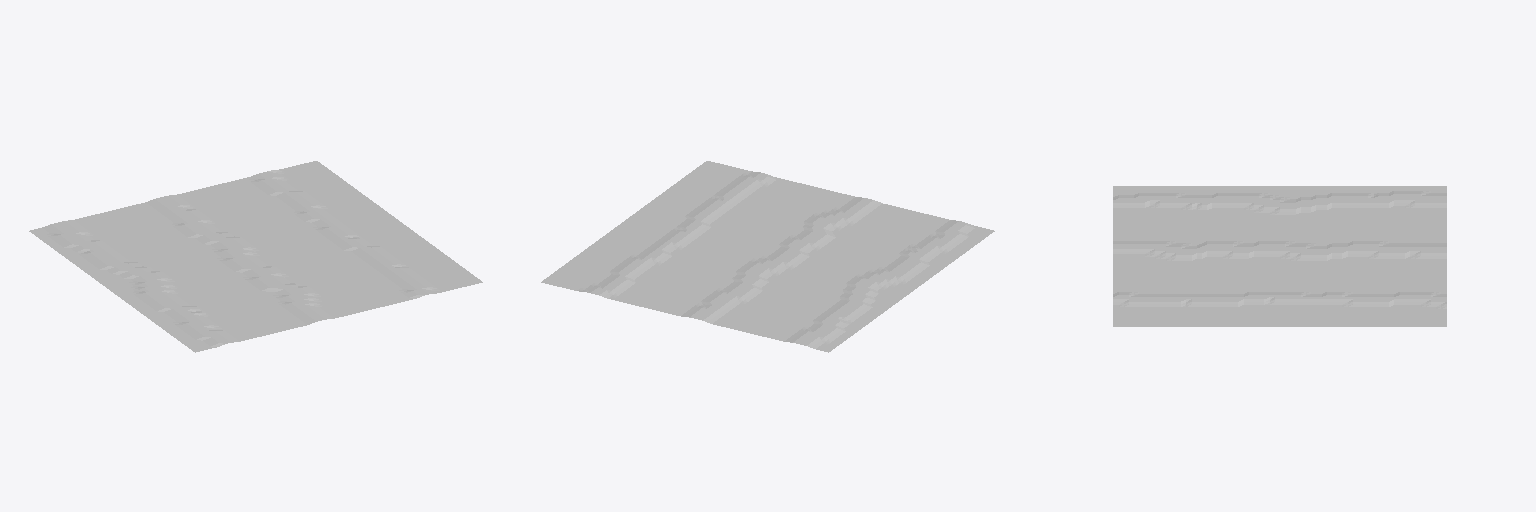
Rendered from lake13.obj.
3 views of the same model, side by side, from view 1: azimuth 30°, elevation 25°; view 2: azimuth 150°, elevation 25°; view 3: azimuth 270°, elevation 25° (orthographic).
Visible parts, largest first — view 1: lake.001; view 2: lake.001; view 3: lake.001.
Boxes of the visible parts, x1=… form: lake.001: x1=29, y1=161, x2=482, y2=352; lake.001: x1=541, y1=161, x2=994, y2=352; lake.001: x1=1113, y1=186, x2=1446, y2=326.
Bounding box in the file's own units: 332 × 1.3 × 332.